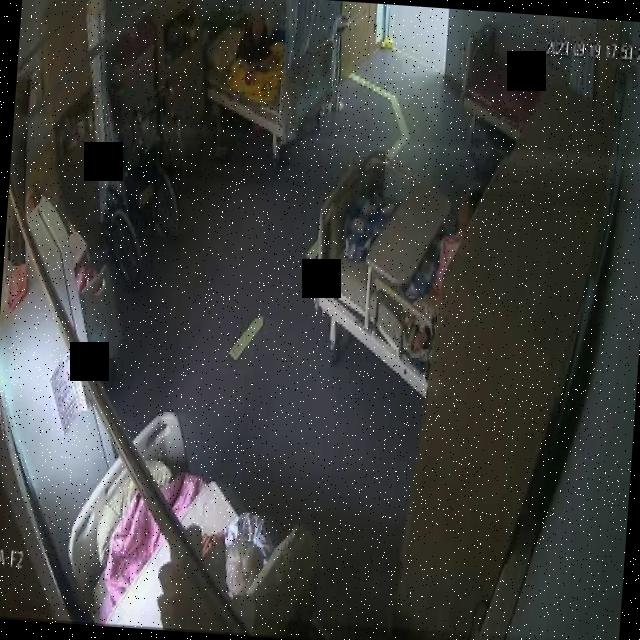bed: (64, 405, 310, 639), (306, 144, 456, 396), (200, 9, 335, 144), (448, 20, 545, 130)
